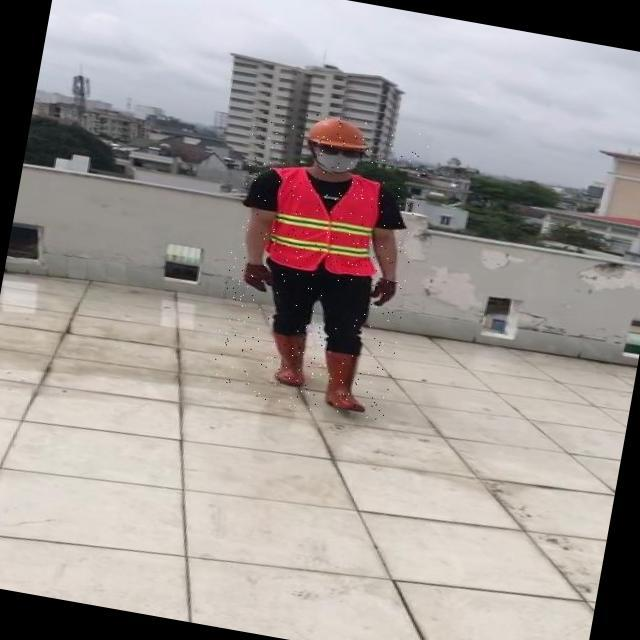Gloves: (241, 262, 277, 293), (370, 278, 396, 307)
Helmet: (301, 112, 373, 153)
Human: (206, 104, 433, 422)
Safety Boot: (313, 348, 370, 411), (266, 330, 312, 386)
Safety Vest: (259, 164, 395, 283)
